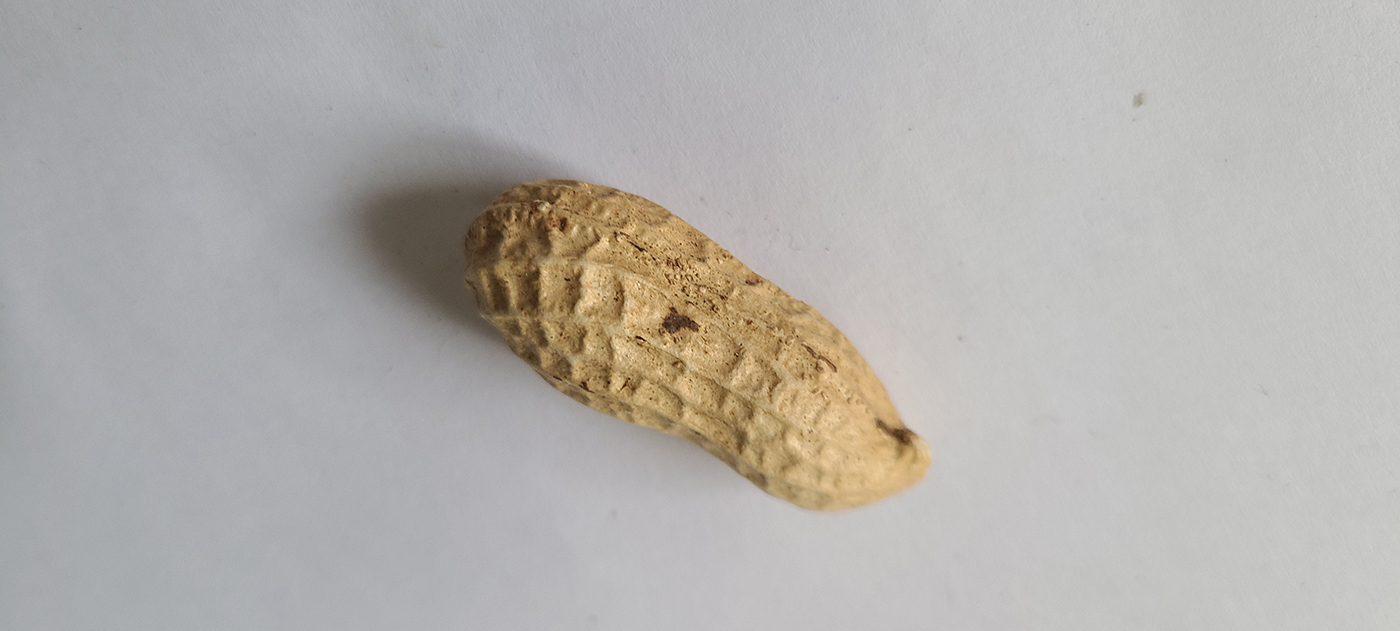h: (462, 174, 932, 514)
